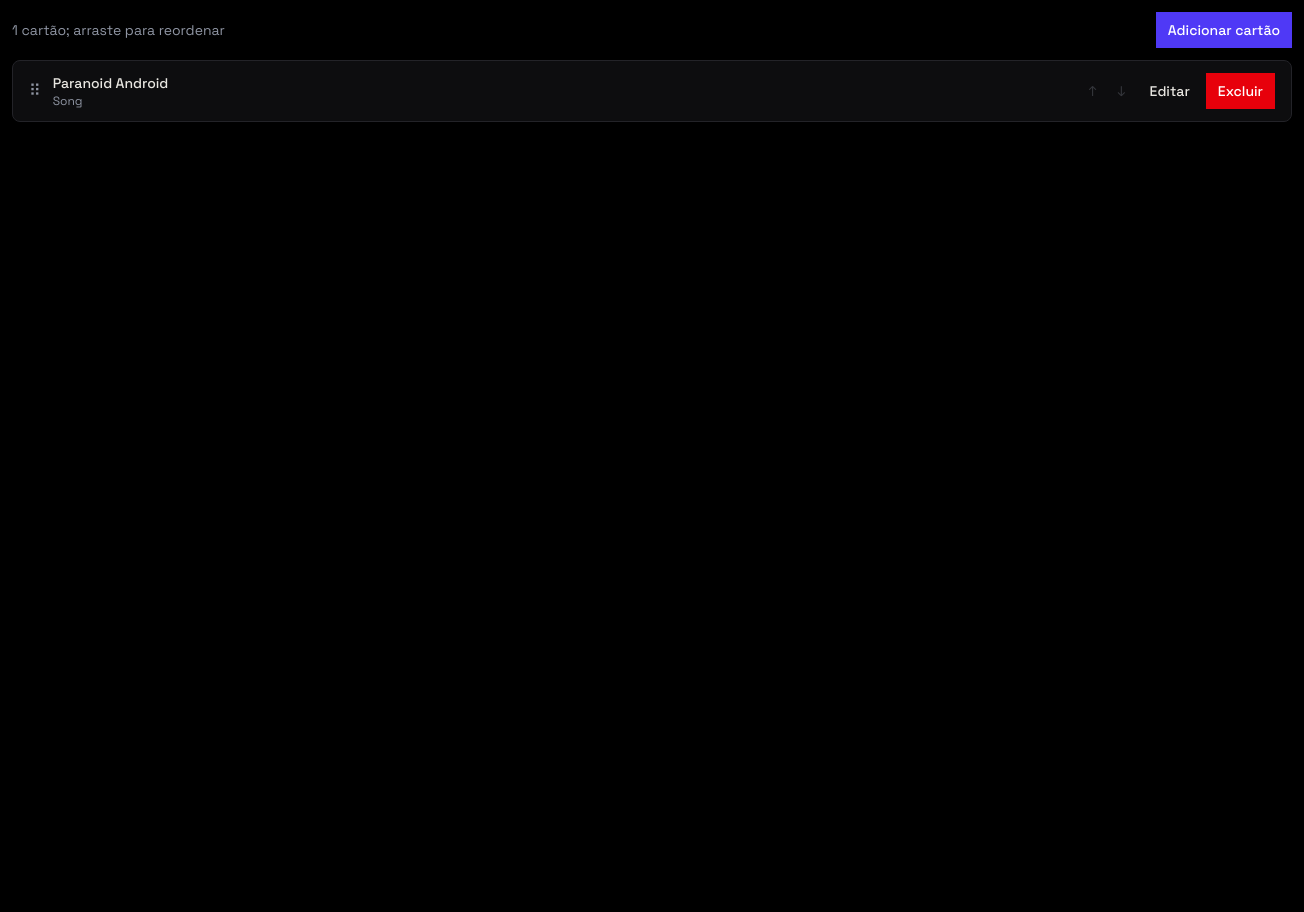
Test: RichCardManager › disables saving while the title is empty
Click the button "Adicionar cartão" at {"x": 1224, "y": 30}, box [1156,12,1292,48]
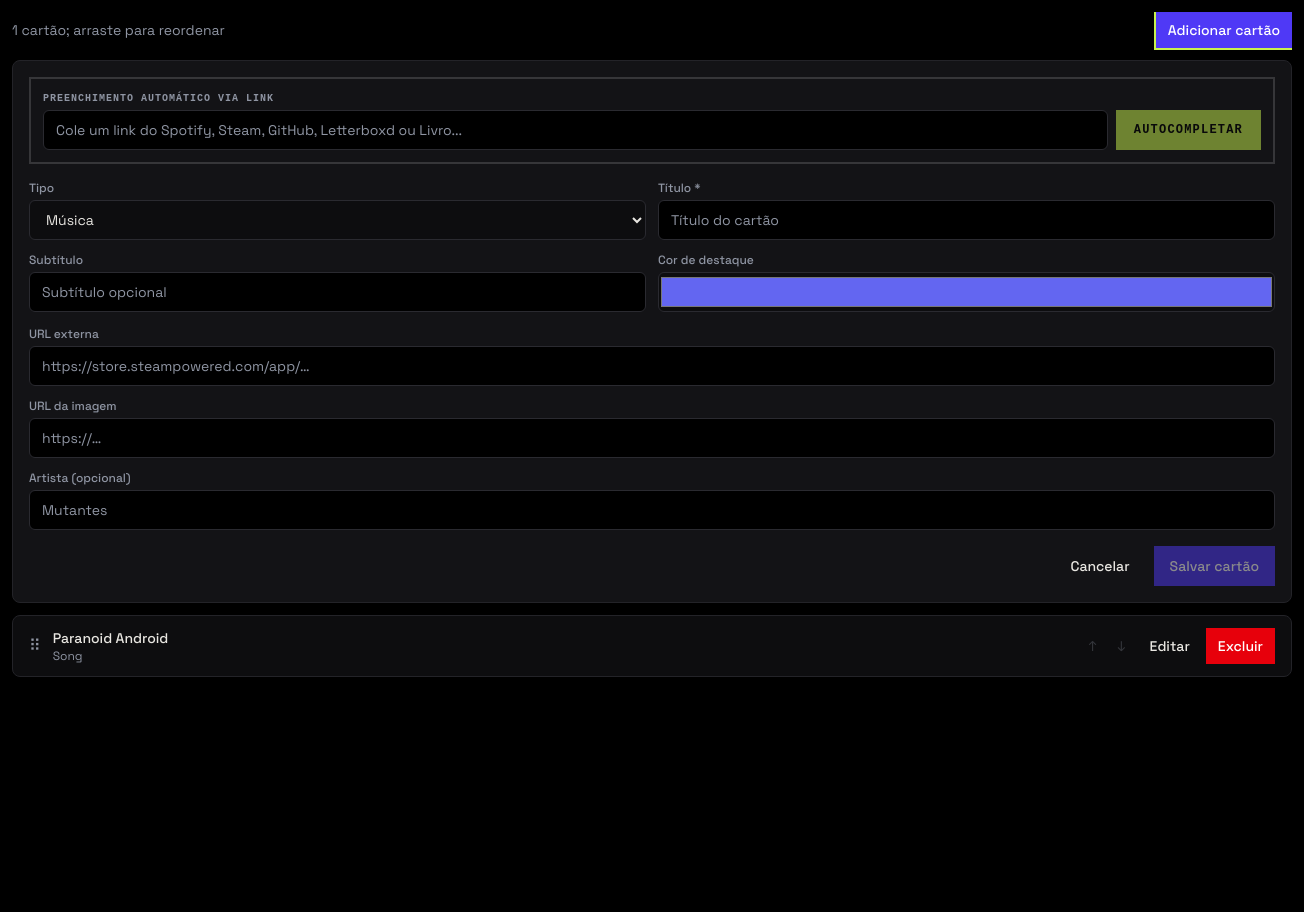
Expected: the button "Salvar cartão" is disabled, [1154,546,1275,586]
